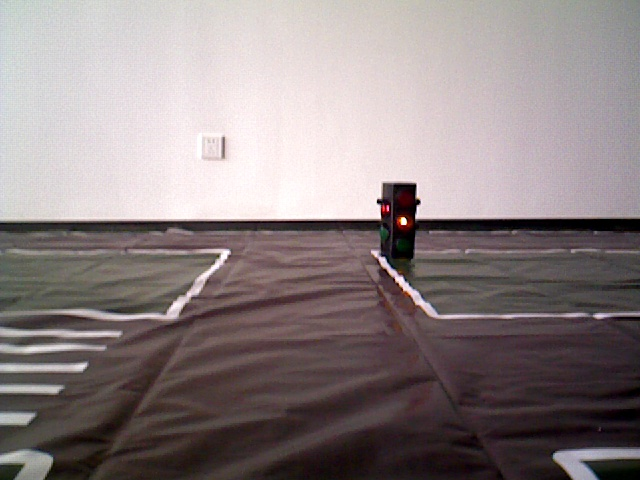yellow: (383, 181, 417, 262)
